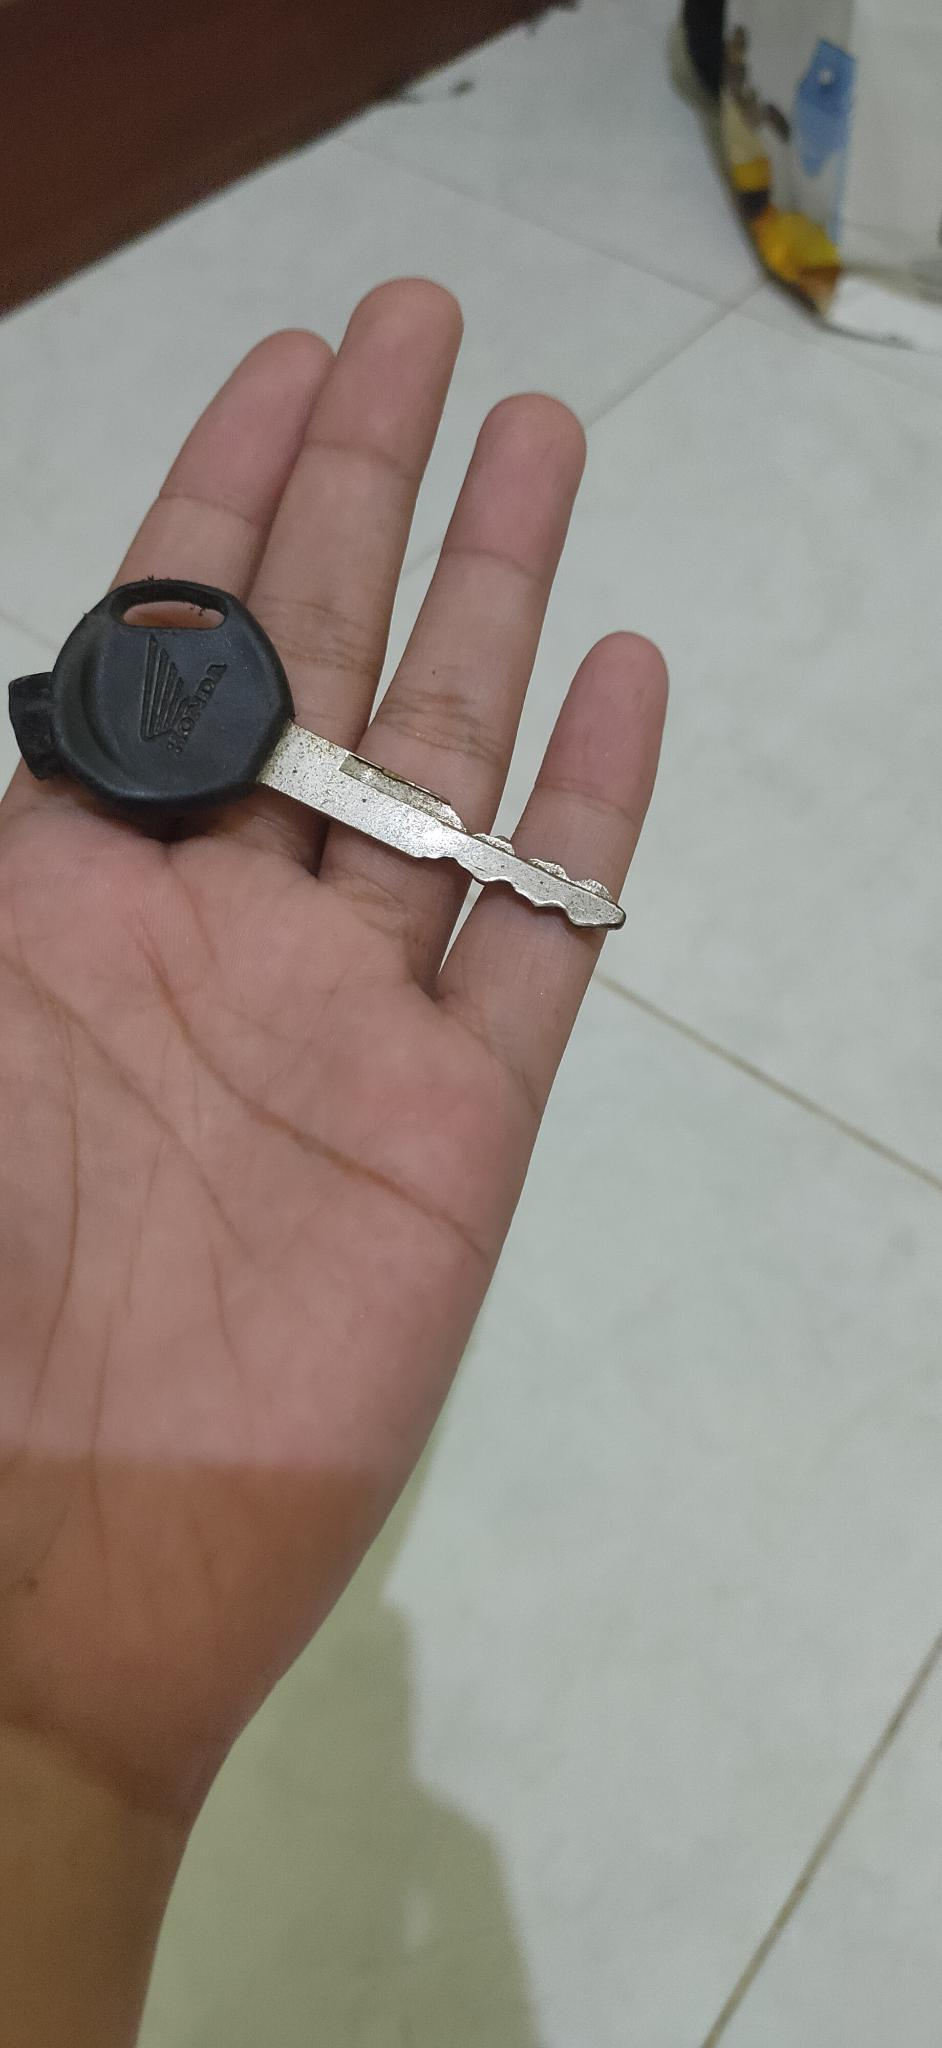keys: (3, 559, 645, 957)
